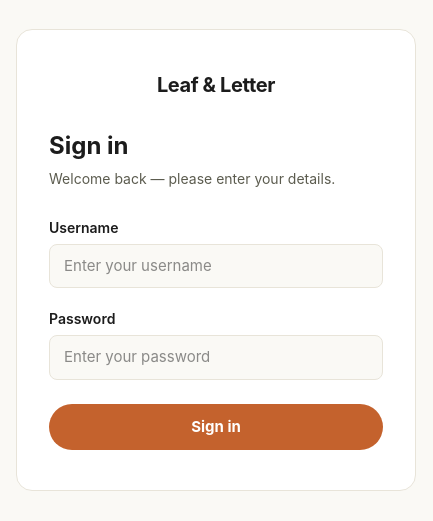
Test: Login page › shows validation error when password is too short
Type "validuser" into the field labelled "Username" at [216, 266], box [49,244,383,288]
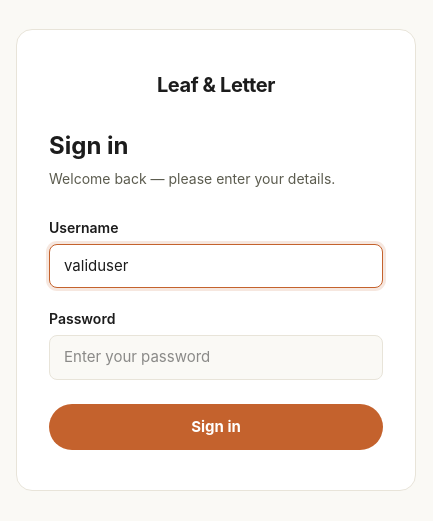
Type "123" into the password field labelled "Password" at [216, 358], box [49,335,383,380]
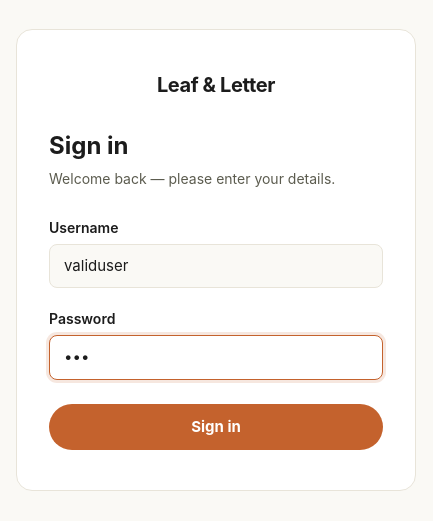
Click the button "Sign in" at [216, 427], box [49,404,383,450]
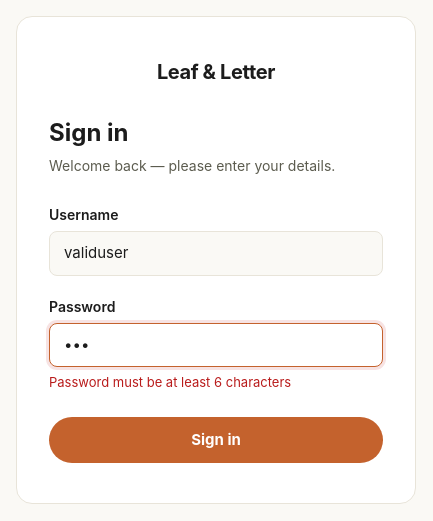
Now the text "Password must be at least 6 characters" is shown, box [49,374,291,390]
